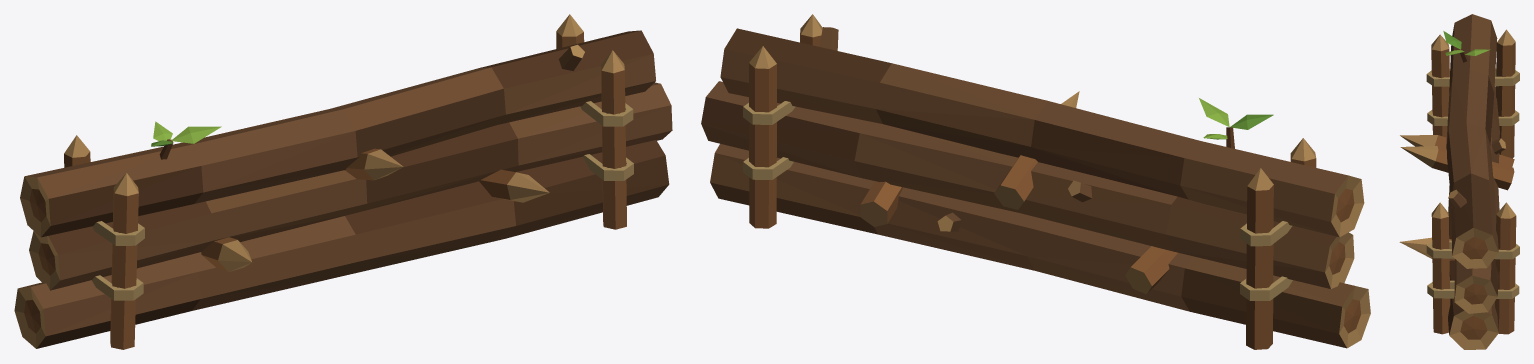
File: barricade_log.glb
3 renders of one model, left to right at view 1: azimuth 30°, elevation 25°; view 2: azimuth 150°, elevation 25°; view 3: azimuth 270°, elevation 25°, orthographic. The views are drawn at different scales.
Visible parts, largest first — view 1: barricade_log; view 2: barricade_log; view 3: barricade_log.
Boxes of the visible parts, bbox=[...] form: barricade_log: bbox=[14, 14, 672, 349]; barricade_log: bbox=[701, 14, 1370, 349]; barricade_log: bbox=[1399, 14, 1519, 349].
Bounding box in the file's own units: 3 × 0.8662 × 0.692.
